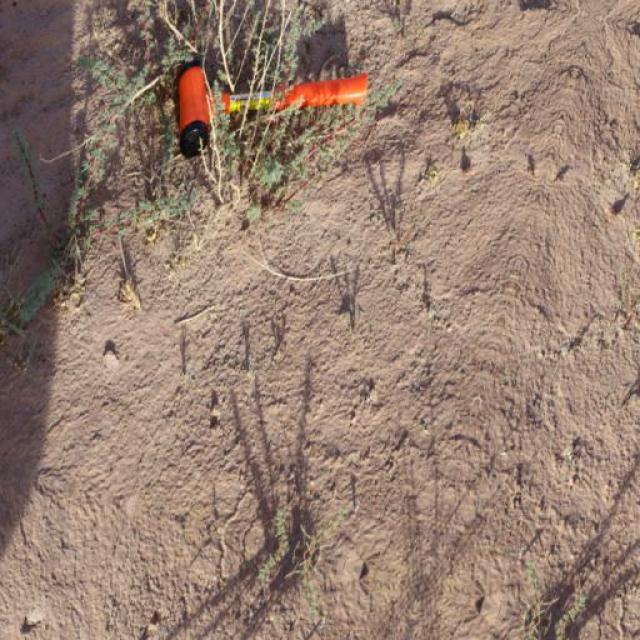mallet: (174, 58, 371, 158)
